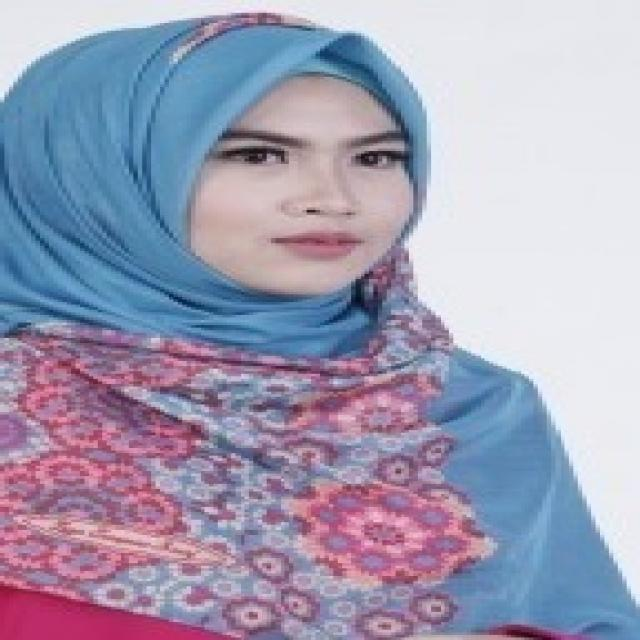head: (62, 20, 437, 304)
